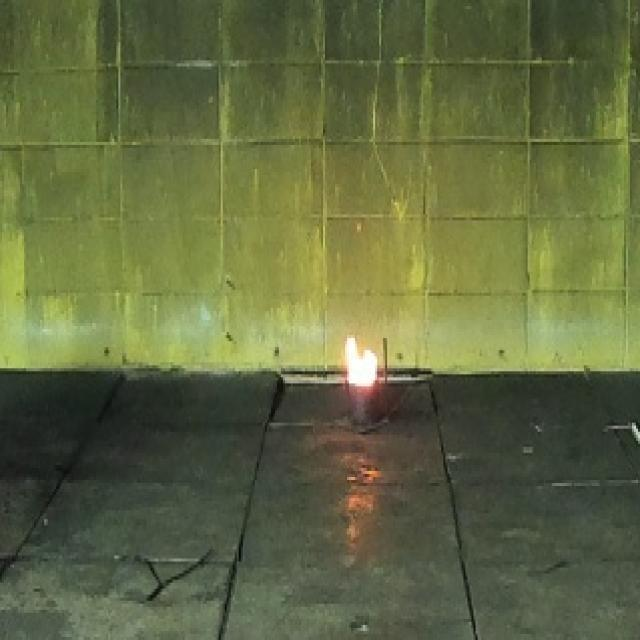Fire: (344, 334, 378, 387)
